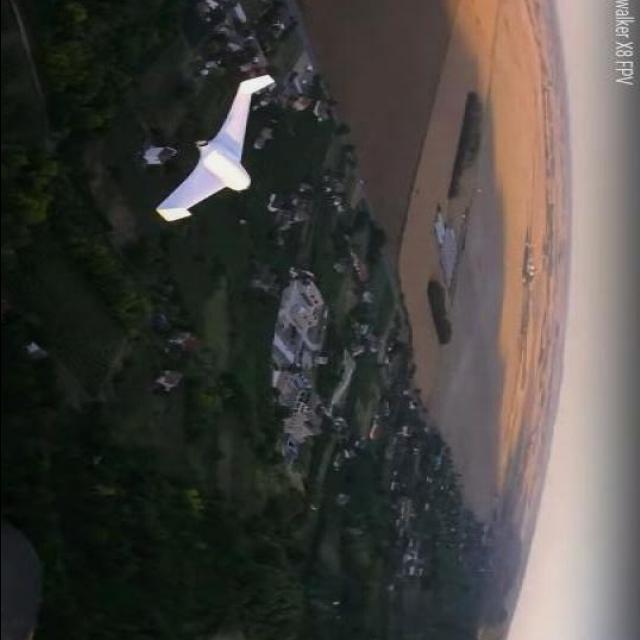plane: (154, 74, 276, 225)
